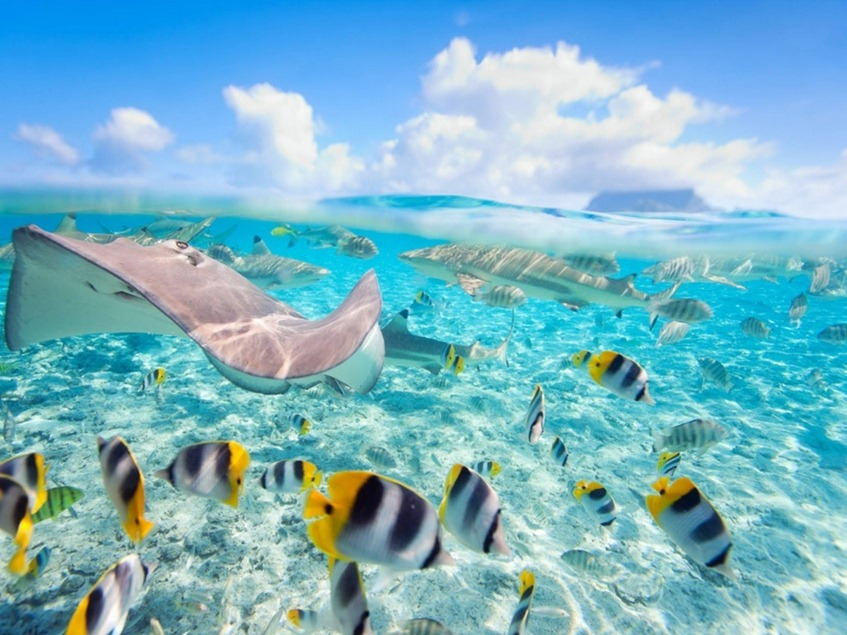fish: (294, 462, 471, 579), (634, 472, 744, 580), (76, 430, 150, 546), (63, 549, 149, 633), (141, 442, 251, 503), (570, 347, 684, 399), (297, 570, 391, 624), (570, 473, 623, 537), (250, 454, 330, 491), (646, 291, 719, 329), (511, 389, 557, 443)
